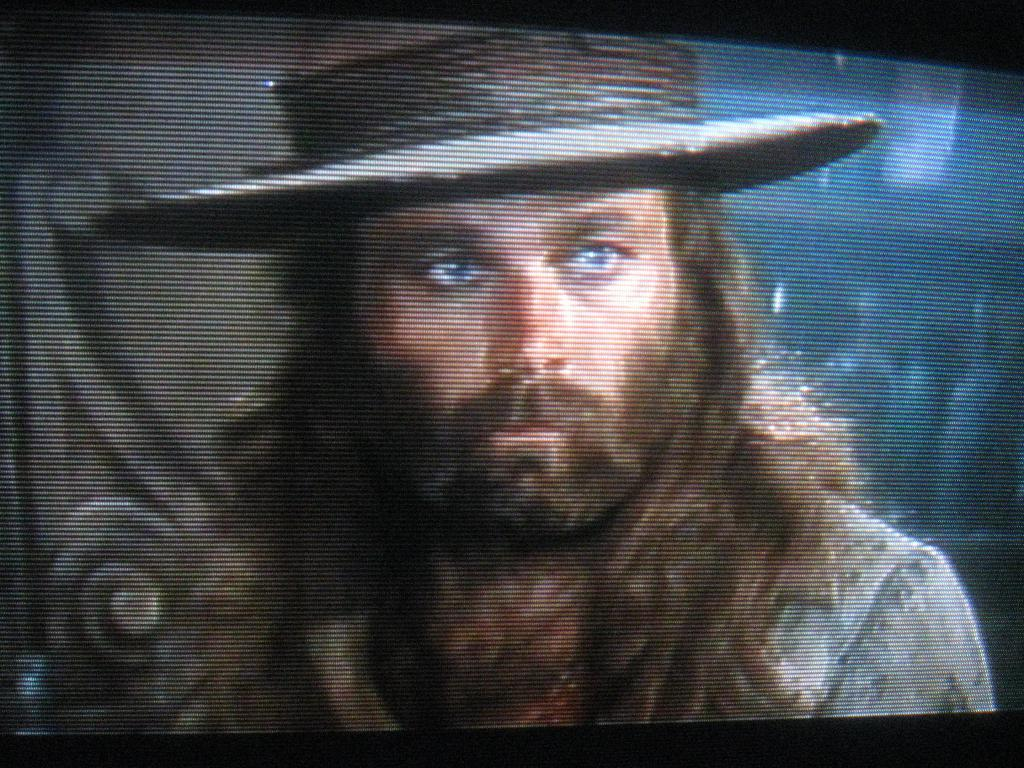Hat: (84, 20, 880, 252)
